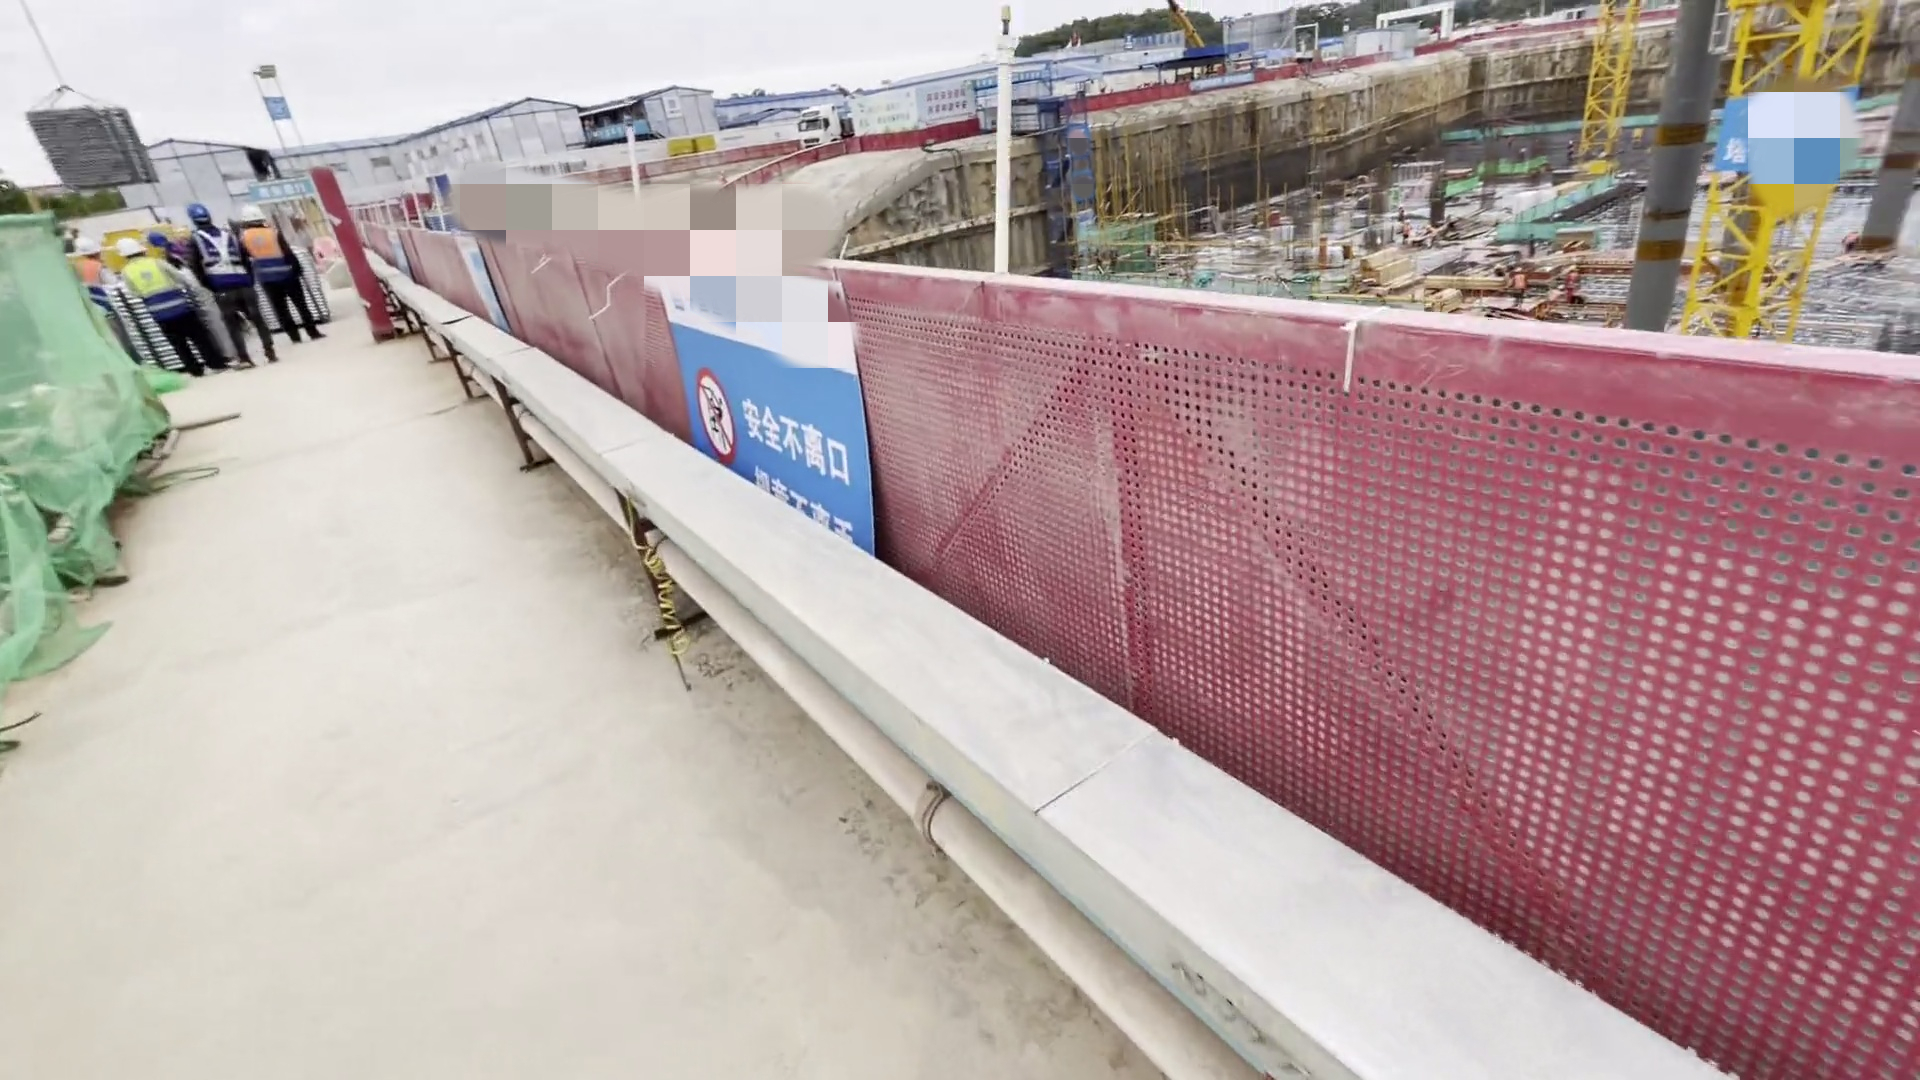fence: (361, 185, 1680, 914)
helmet: (141, 227, 195, 258), (238, 206, 280, 243), (66, 232, 111, 265), (111, 237, 152, 259), (187, 204, 209, 223)
person: (109, 236, 223, 384), (177, 199, 277, 359), (237, 199, 322, 354), (56, 220, 125, 324)
scaffold: (1, 89, 201, 203)
slogan: (627, 257, 870, 534)
vest: (191, 230, 259, 296), (236, 224, 299, 285), (123, 259, 179, 325), (74, 254, 118, 285)
